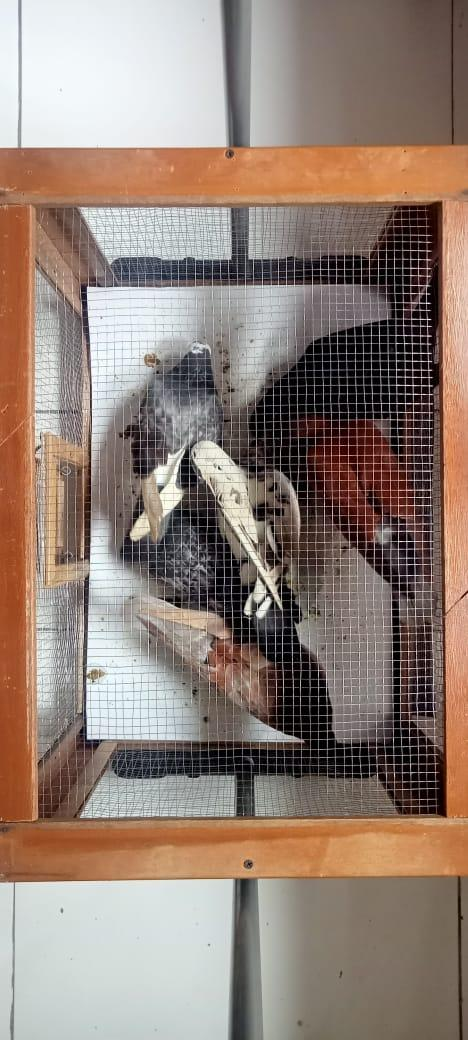Merpati: (117, 594, 340, 755), (291, 417, 440, 630), (110, 340, 225, 570), (187, 442, 301, 636), (251, 318, 439, 435), (149, 507, 248, 625)
